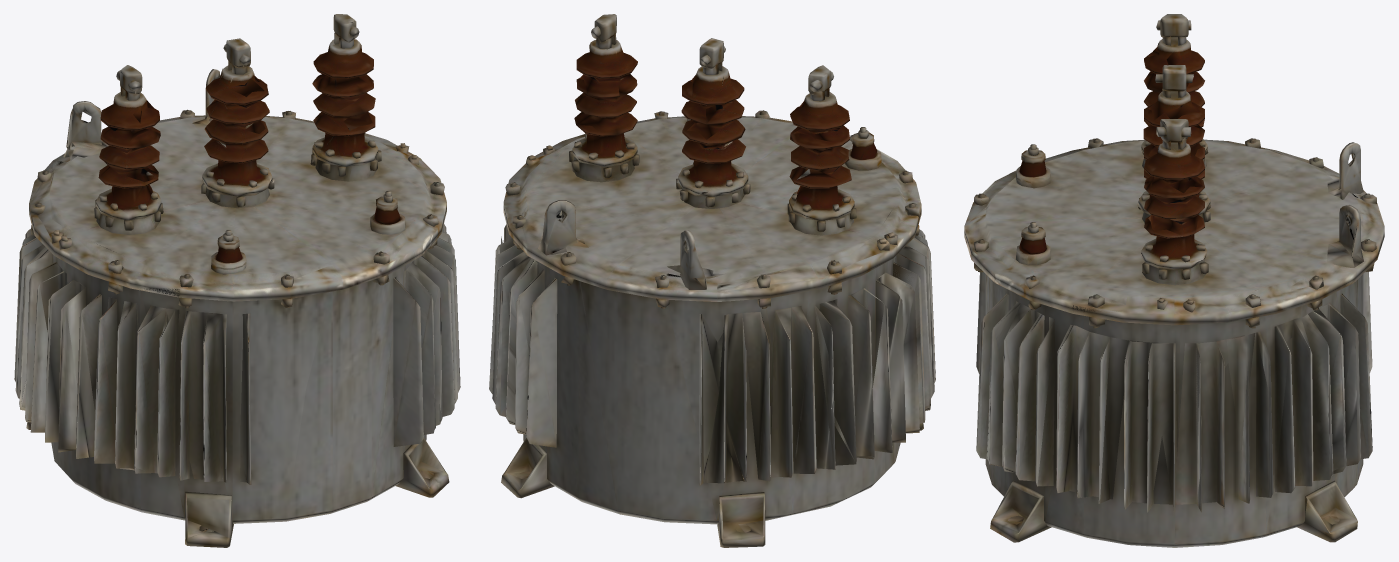
Rendered from transformador-poste-18b551ae32aa.glb.
The picture shows the model from 3 angles, left to right: view 1: azimuth 30°, elevation 25°; view 2: azimuth 150°, elevation 25°; view 3: azimuth 270°, elevation 25°; orthographic projection.
Visible parts, largest first — view 1: perto, longe; view 2: perto, longe; view 3: perto, longe.
Part boxes in pixels (x1,y1,x2,y2): perto: (14,14,460,547); longe: (24,21,454,538); perto: (489,14,935,547); longe: (489,29,935,539); perto: (964,14,1384,547); longe: (964,37,1384,533).
Bounding box in the file's own units: 0.9321 × 0.9497 × 0.8804.
Materials: 1 (1 with a texture image).
